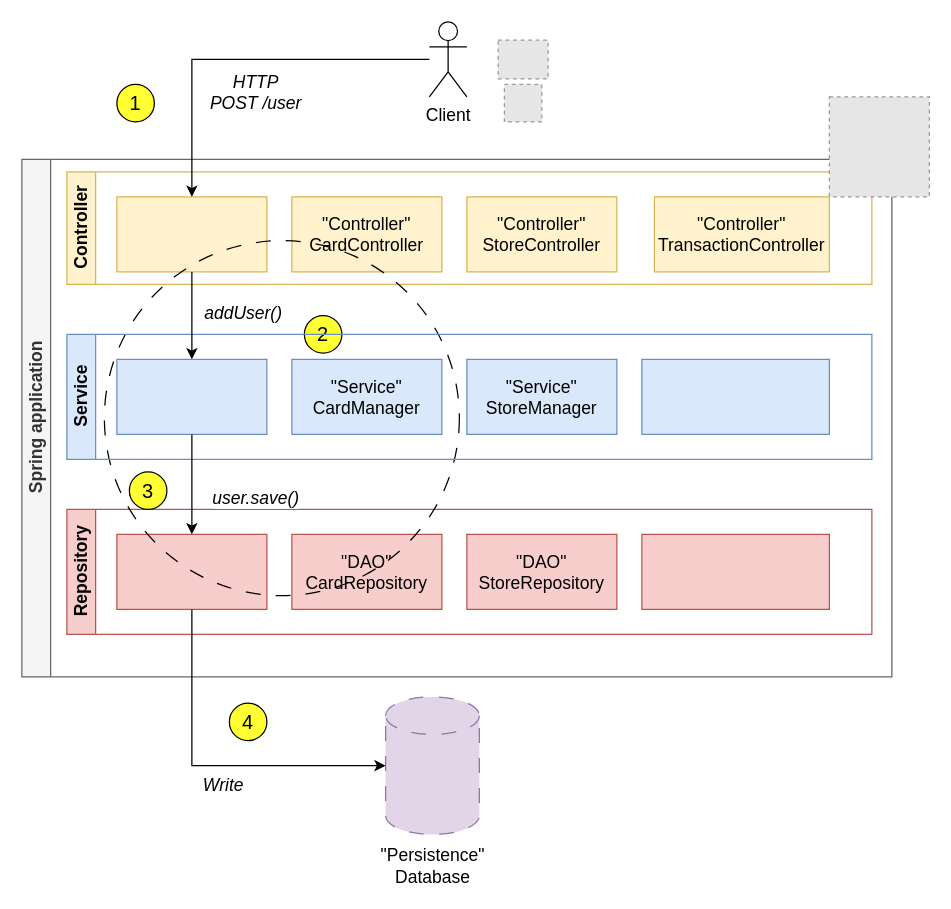
The diagram is 951 pixels wide and 909 high, and some of its shapes have lost their labels. Grey dashed boxes stand in for pictures. The centre of each missing label's shape, as x and y in pixels:
"Controller" UserController: (191,234)
"DAO" TransactionRepository: (735,571)
"DAO" UserRepository: (191,571)
"Service" TransactionManager: (735,396)
"Service" UserManager: (191,396)
